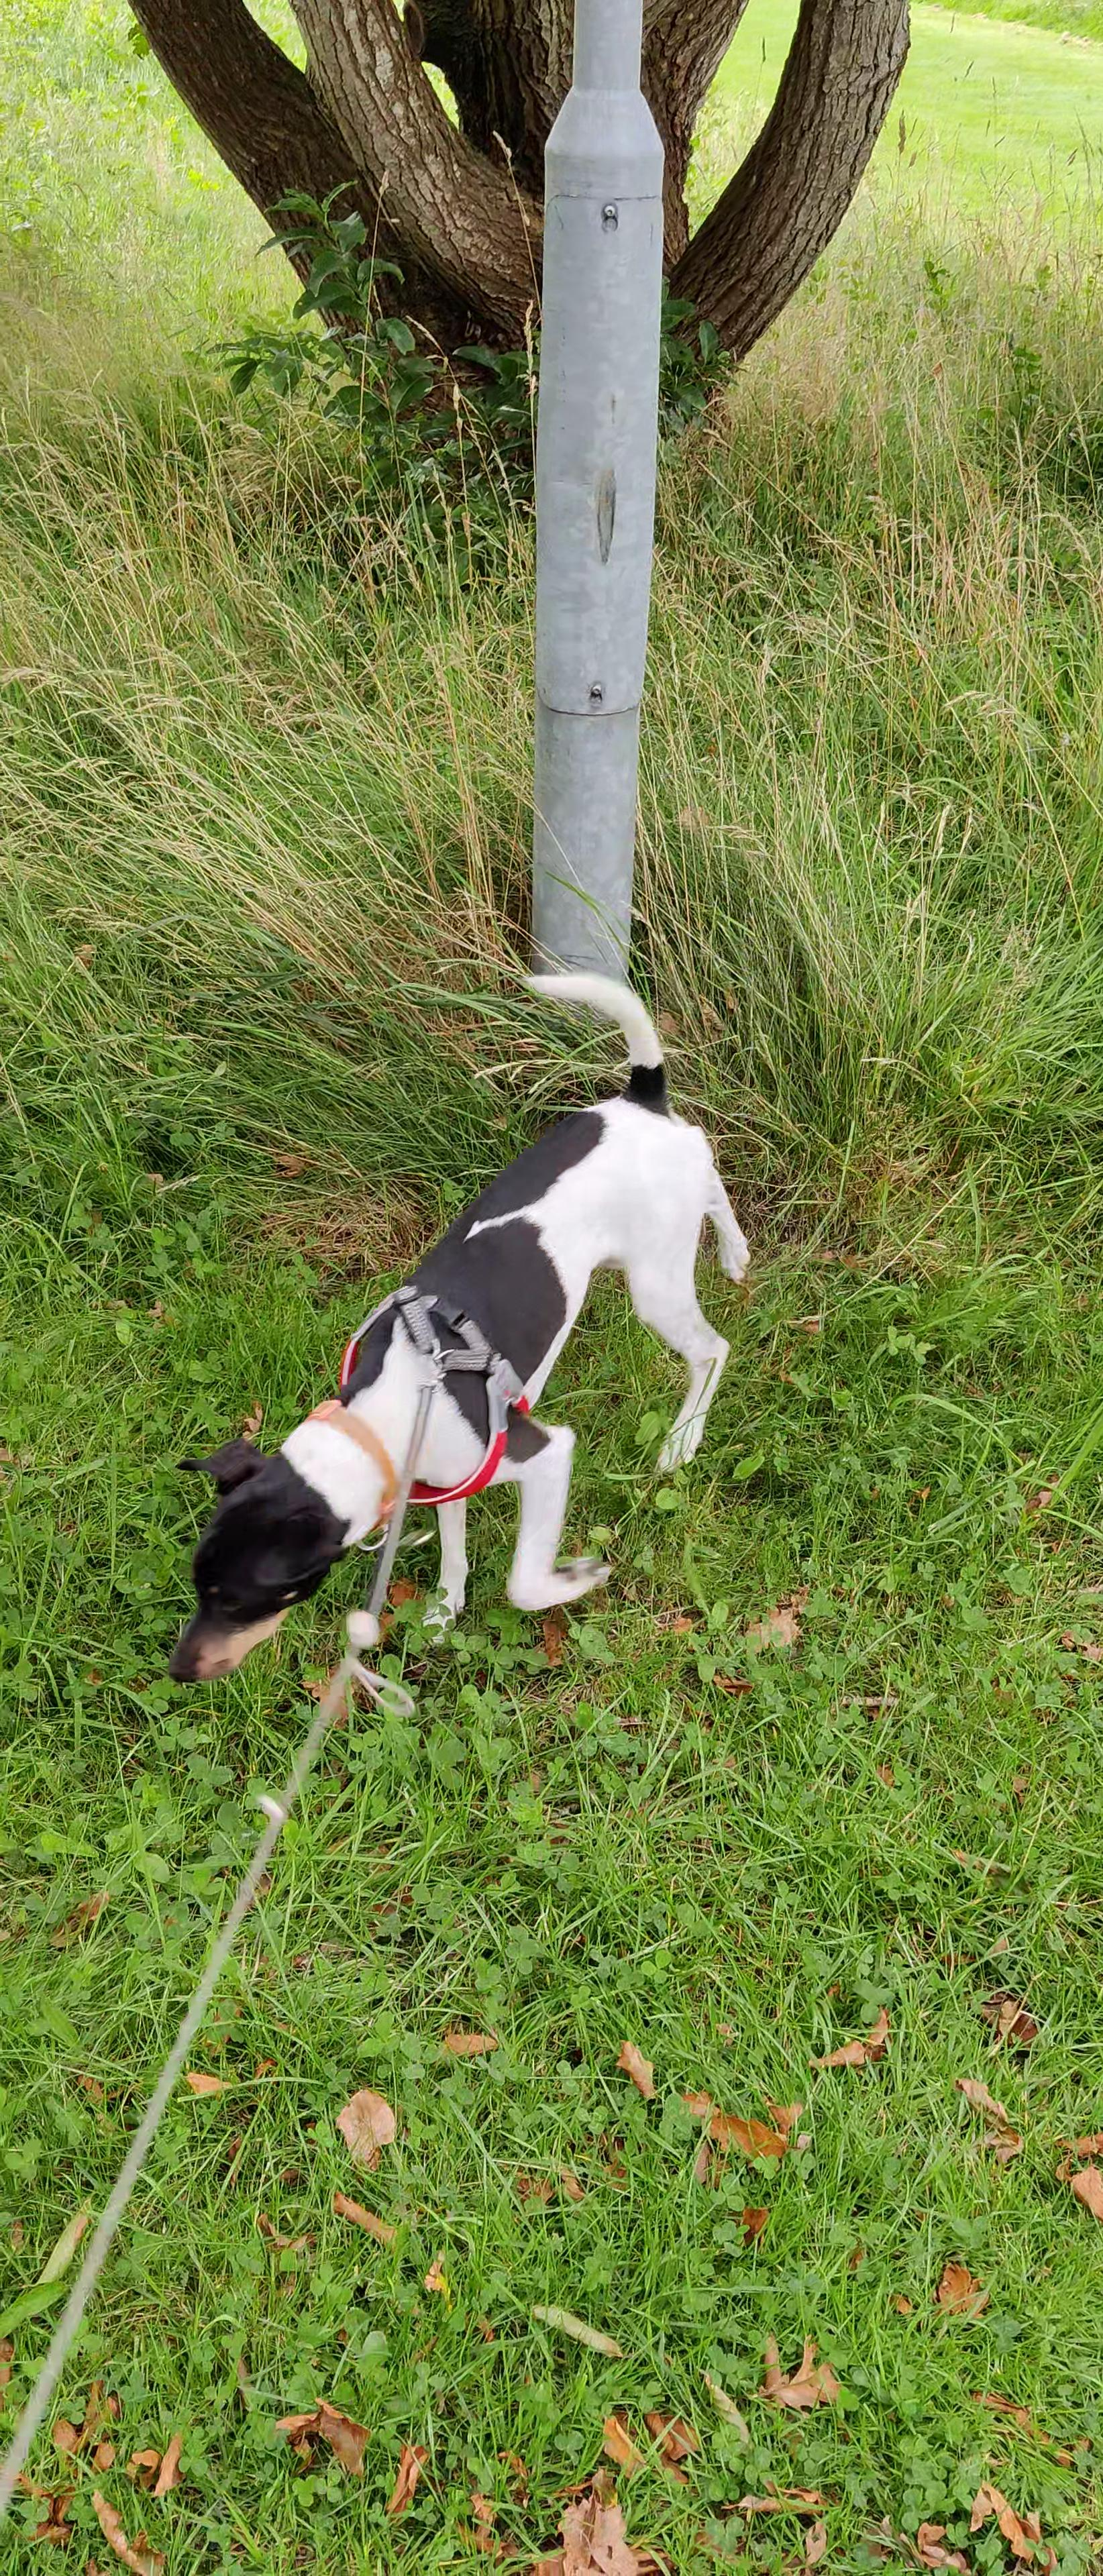Dog: (146, 951, 764, 1709)
